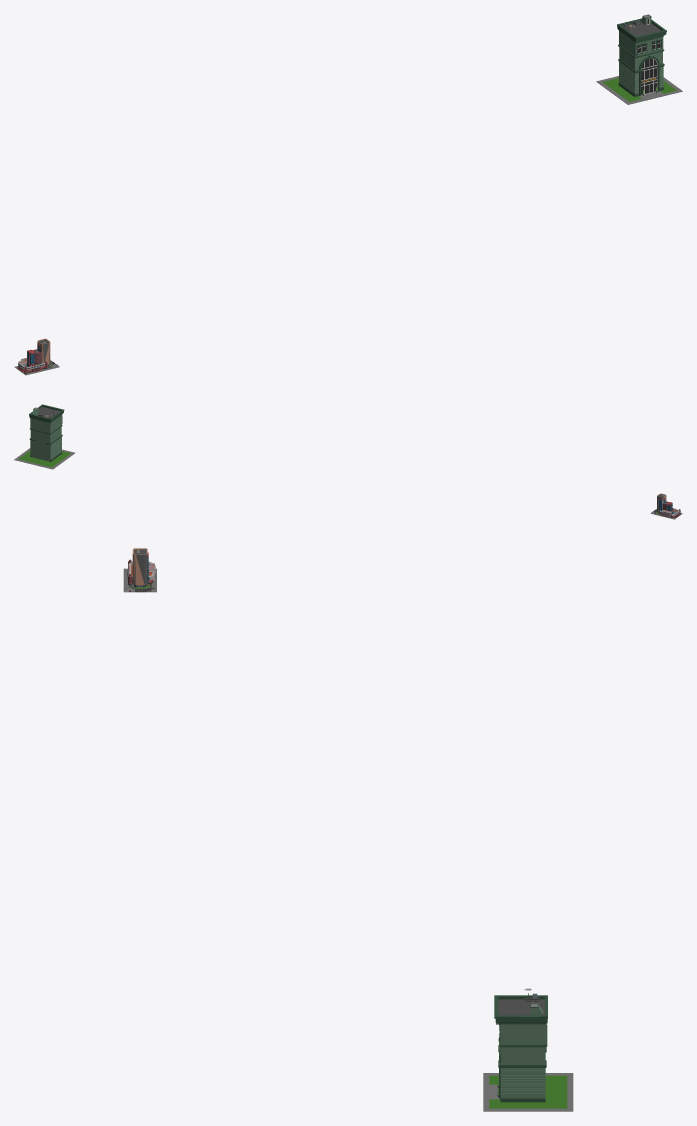
Rendered from ville2.glb.
3 renders of one model, top to bottom at view 1: azimuth 30°, elevation 25°; view 2: azimuth 150°, elevation 25°; view 3: azimuth 270°, elevation 25°, orthographic. The views are drawn at different scales.
Visible parts, largest first — view 1: boutique; view 2: boutique, stade; view 3: boutique.
Boxes of the visible parts, x1,y1,x2,y2 form: boutique: [596, 14, 682, 104]; boutique: [14, 404, 75, 469]; stade: [650, 508, 682, 519]; boutique: [483, 988, 573, 1111].
Size of the model in its own units: 214 by 17.51 by 74.84.
Materials: 1 (1 with a texture image).
